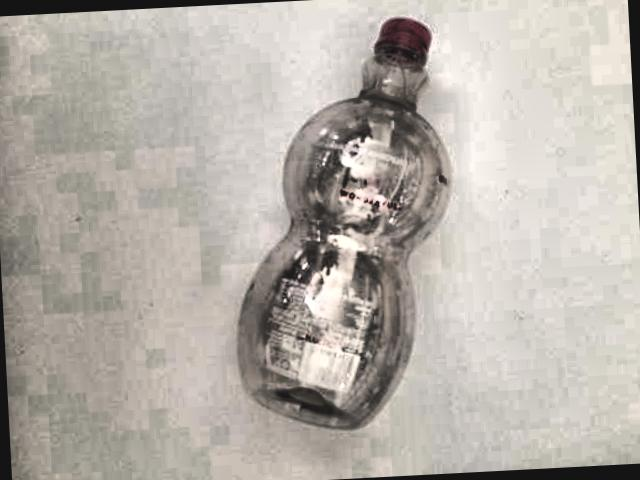Bottles: (204, 4, 492, 452)
